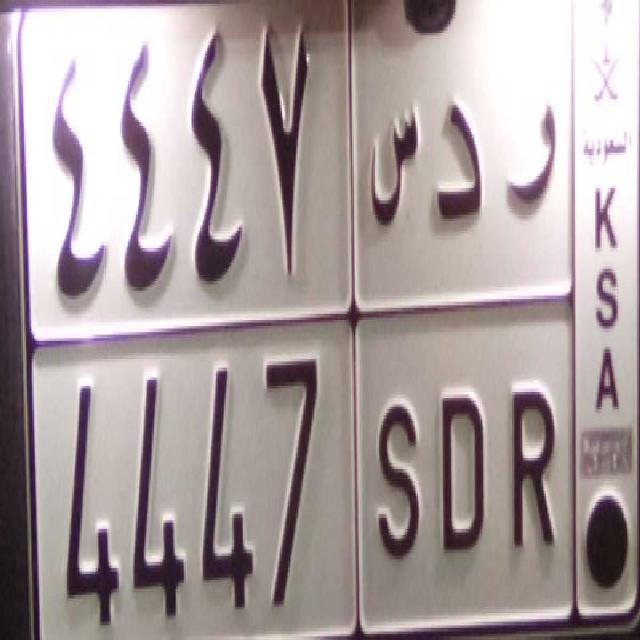license_plate: (41, 327, 572, 640)
